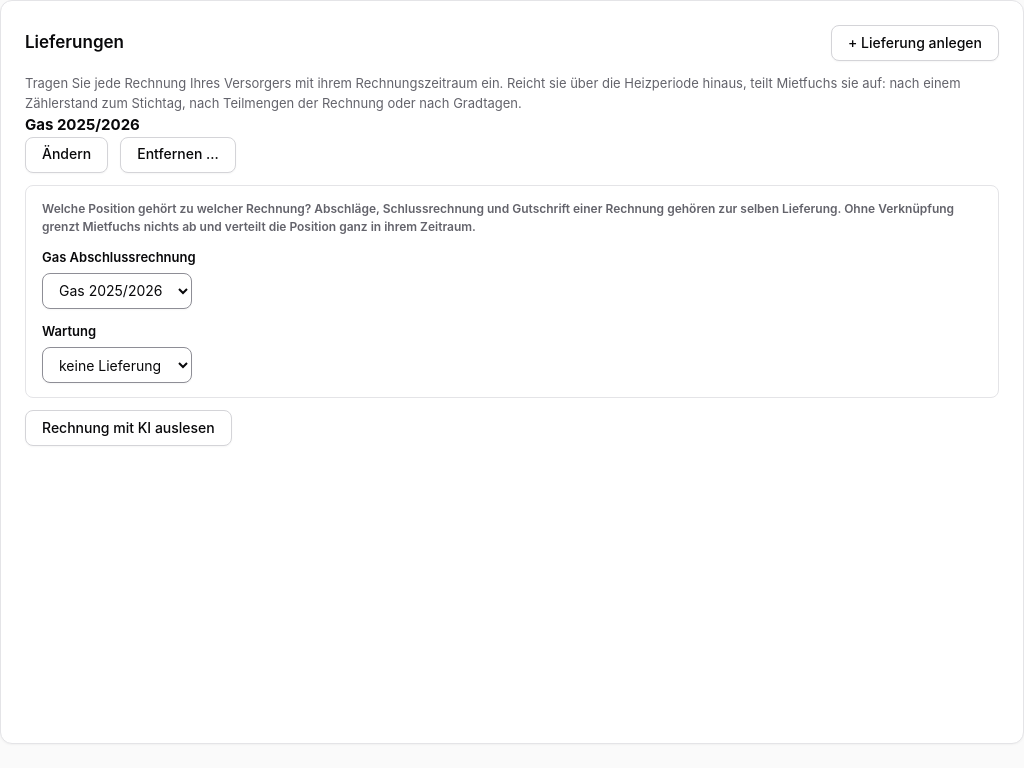
Test: Scheitert das Verknüpfen, steht der Grund an der Zeile und der Entwurf bleibt (#309)
Select "Gas 2025/2026" in the dropdown named "Lieferung zu „Wartung“": (117, 365) [42,347,192,383]
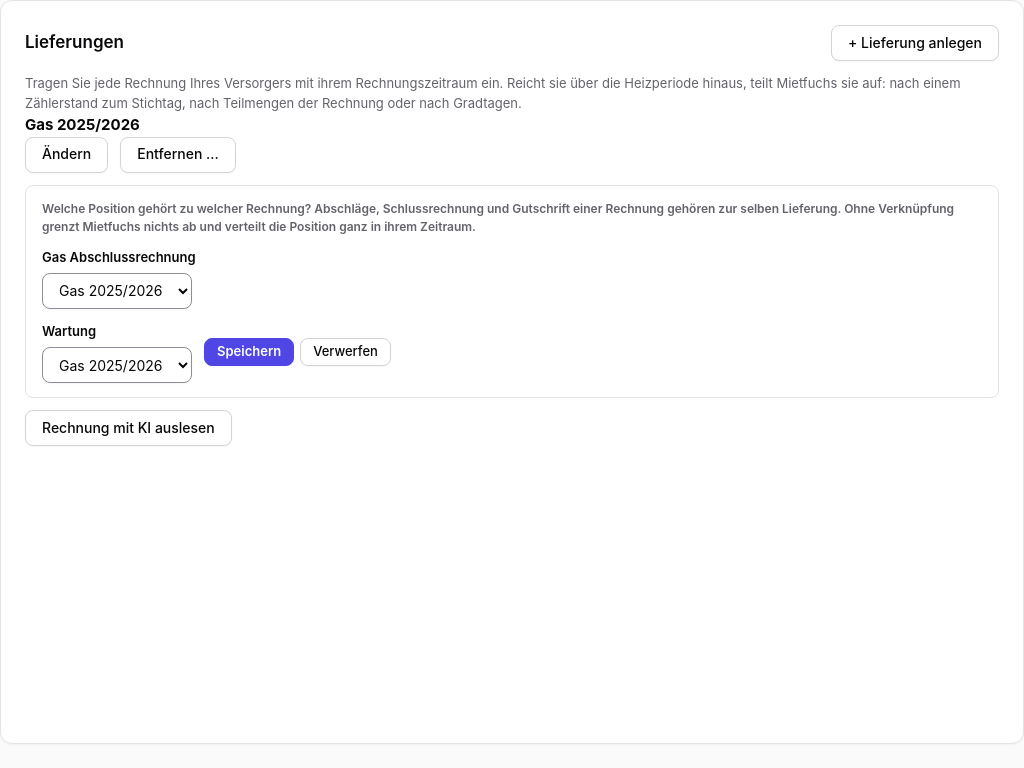
Click the button named "Speichern (Lieferung zu „Wartung“)": click(249, 352) [204,338,294,366]
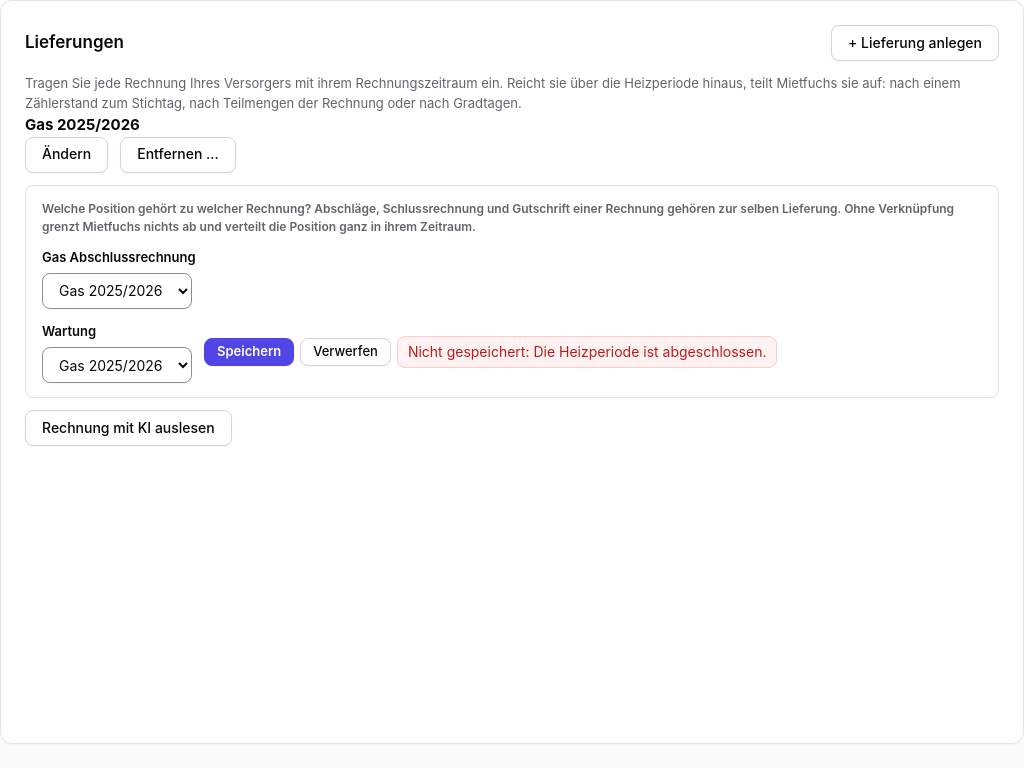
Expected: the message reads "Nicht gespeichert: Die Heizperiode ist abgeschlossen.", [397,336,777,368]
